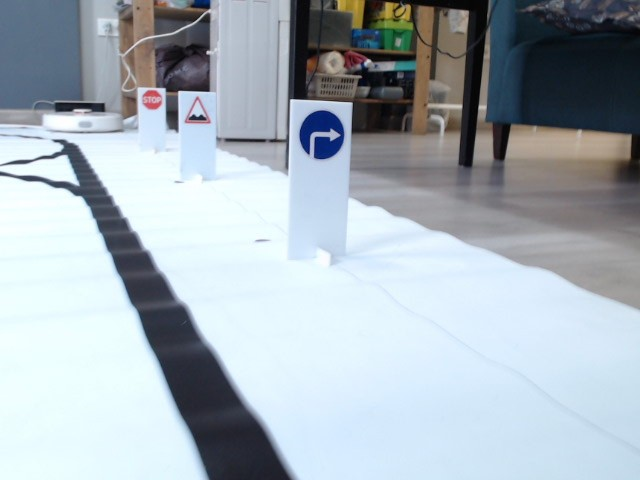Nerov: (183, 95, 213, 126)
Right: (298, 108, 345, 160)
Stop: (140, 89, 163, 110)
